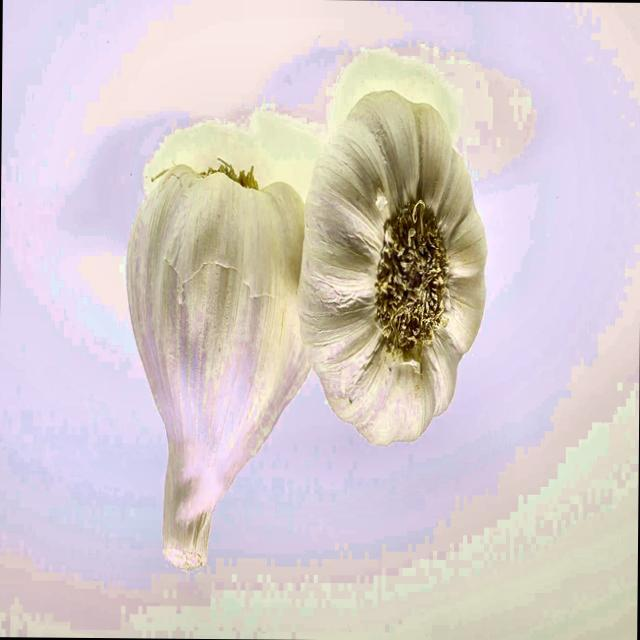garlic: (128, 165, 309, 569), (300, 91, 486, 444)
